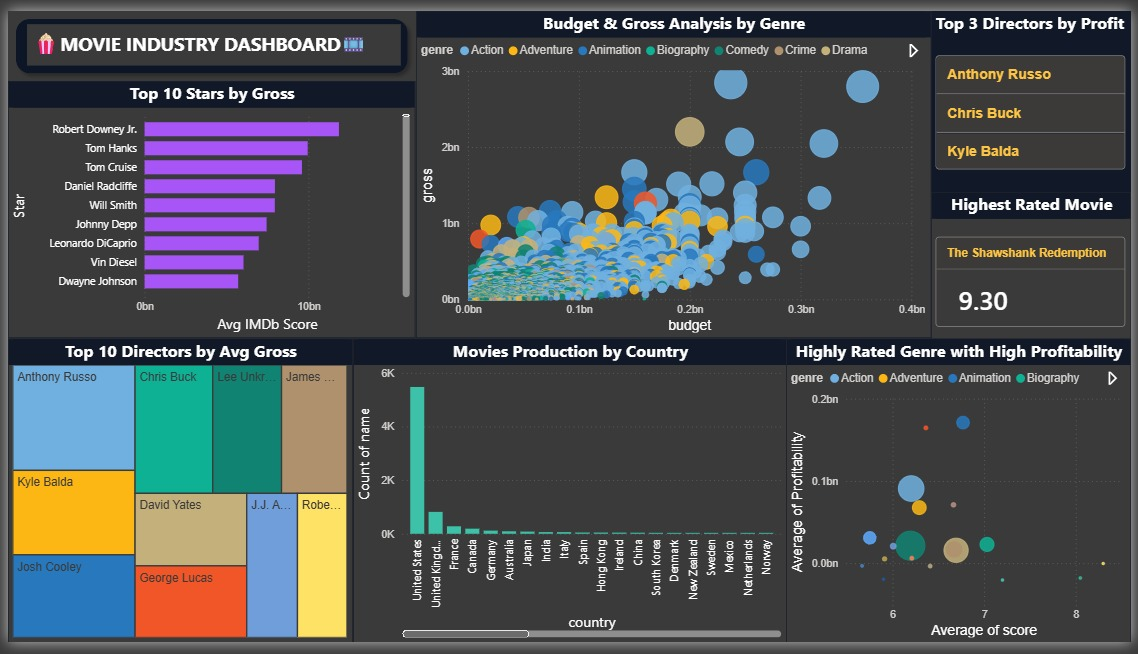

What the dashboard file says about the page in this screenshot:
{"tool":"powerbi","page":{"name":"Key Analysis","canvas":[1280,720],"ordinal":1},"visuals":[{"type":"clusteredBarChart","title":"Top 10 Stars by Gross","fields":{"Category":["movies.star"],"Y":["Sum(movies.gross)"]},"box":[0,80,464.3,292.9],"z":0},{"type":"treemap","title":"Top 10 Directors by Avg Gross","fields":{"Group":["movies.director"],"Values":["Avg(movies.gross)"]},"box":[0,372.9,392.9,347.1],"z":1000},{"type":"cardVisual","title":"Top 3 Directors by Profit","fields":{"Rows":["movies.director"],"Data":["Avg(movies.Profitability)"]},"box":[1051.4,0,228.6,207.1],"z":2000},{"type":"cardVisual","title":"Highest Rated Movie","fields":{"Rows":["movies.name"],"Data":["Max(movies.score)"]},"box":[1051.4,207.1,228.6,180],"z":3000},{"type":"scatterChart","title":"Budget & Gross Analysis by Genre","fields":{"X":["movies.budget"],"Y":["movies.gross"],"Series":["movies.genre"],"Size":["Sum(movies.gross)"]},"box":[464.3,0,587.1,372.9],"z":4000},{"type":"scatterChart","title":"Highly Rated Genre with High Profitability","fields":{"X":["Avg(movies.score)"],"Y":["Avg(movies.Profitability)"],"Series":["movies.genre"],"Size":["CountNonNull(movies.name)"]},"box":[887.1,372.9,392.9,347.1],"z":5000},{"type":"clusteredColumnChart","title":"Movies Production by Country","fields":{"Category":["movies.country"],"Y":["CountNonNull(movies.name)"]},"box":[392.9,372.9,494.3,347.1],"z":6000},{"type":"shape","box":[0,0,464.3,80],"z":7000},{"type":"textbox","box":[21.4,15.7,425.7,47.1],"z":8000}]}

Visuals, with their boxes in screenshot pixels (x1, y1, x2, y2), scaled from the page's 1280x720 canvas onto the 1138x654 screenshot:
"Top 10 Stars by Gross" clusteredBarChart: l=0, t=73, r=413, b=339
"Top 10 Directors by Avg Gross" treemap: l=0, t=339, r=349, b=653
"Top 3 Directors by Profit" cardVisual: l=935, t=0, r=1137, b=188
"Highest Rated Movie" cardVisual: l=935, t=188, r=1137, b=352
"Budget & Gross Analysis by Genre" scatterChart: l=413, t=0, r=935, b=339
"Highly Rated Genre with High Profitability" scatterChart: l=789, t=339, r=1137, b=653
"Movies Production by Country" clusteredColumnChart: l=349, t=339, r=789, b=653
shape: l=0, t=0, r=413, b=73
textbox: l=19, t=14, r=397, b=57
